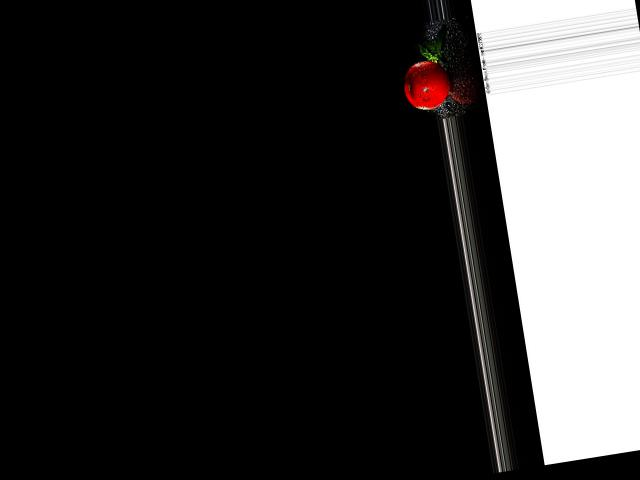tomato: (400, 57, 452, 112)
